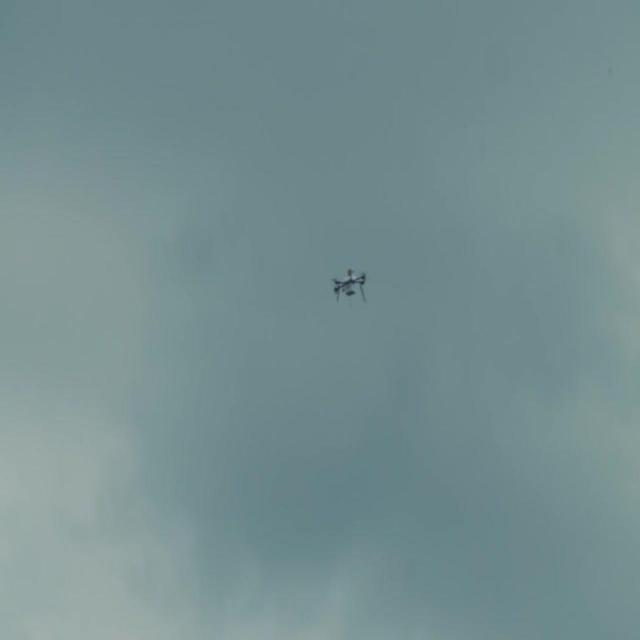UAV: (332, 268, 368, 303)
